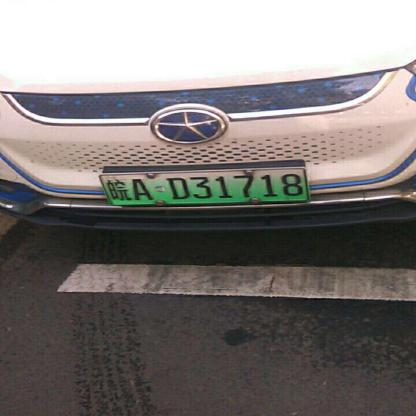lp: (98, 168, 309, 206)
